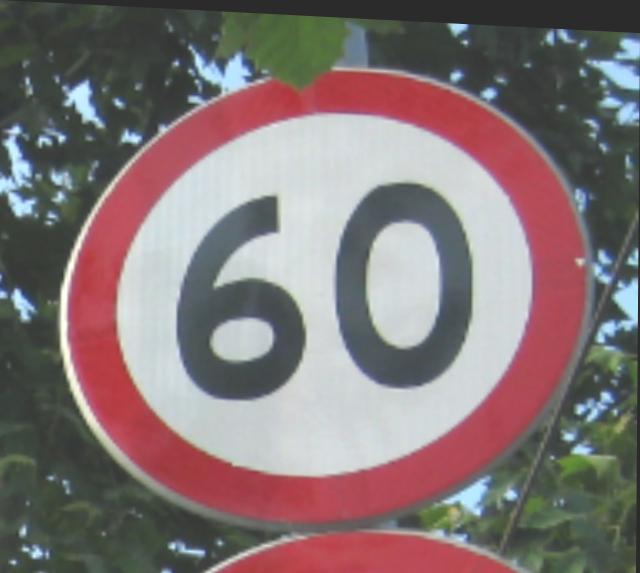limit60: (44, 33, 609, 548)
